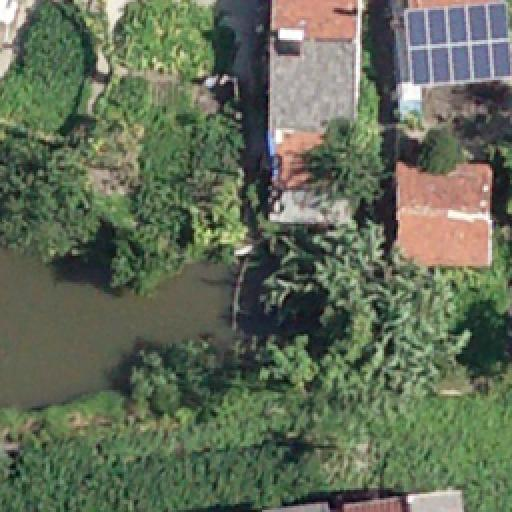solar-panel: (403, 3, 509, 85)
